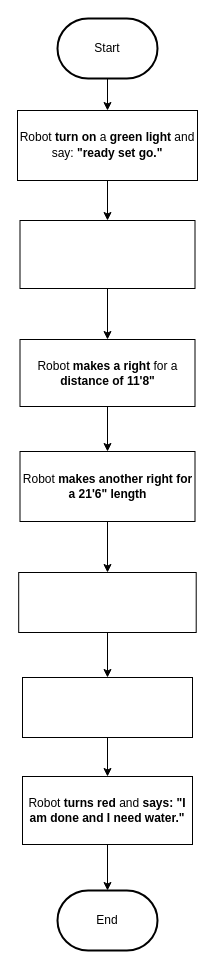
This 215x968 diagram has some shape labels left out. The box of each missing label's shape, as (x1, y1, x2, y2) in pixels:
Robot makes the last right for a length of 11'11": (18, 572, 196, 632)
Robot reaches the end /starting point: (22, 676, 192, 738)
Robot will run a length of 22 ': (19, 220, 195, 288)
